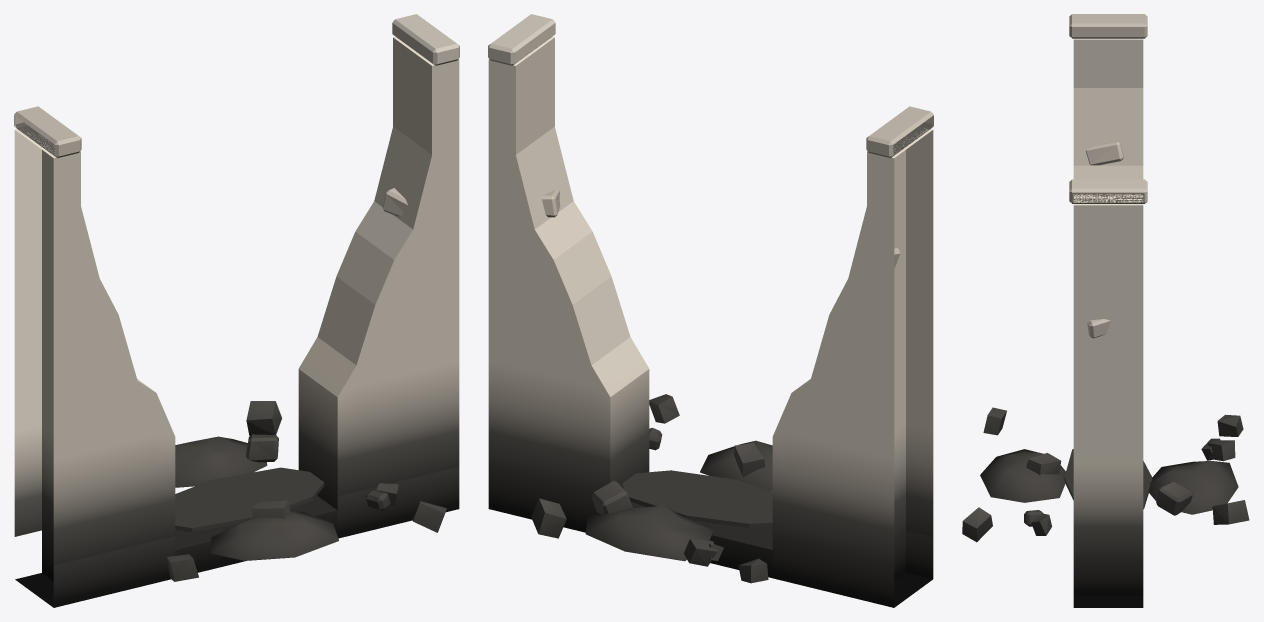
Rendered from SM_VKI_Wall_Sewer_Breach_300_Full.fbx.
The picture shows the model from 3 angles, left to right: view 1: azimuth 30°, elevation 25°; view 2: azimuth 150°, elevation 25°; view 3: azimuth 270°, elevation 25°; orthographic projection. The views are drawn at different scales.
Visible parts, largest first — view 1: SM_VKI_Wall_Sewer_Breach_300_Full.001; view 2: SM_VKI_Wall_Sewer_Breach_300_Full.001; view 3: SM_VKI_Wall_Sewer_Breach_300_Full.001.
Boxes of the visible parts, x1,y1,x2,y2 form: SM_VKI_Wall_Sewer_Breach_300_Full.001: [14, 14, 459, 607]; SM_VKI_Wall_Sewer_Breach_300_Full.001: [488, 14, 933, 607]; SM_VKI_Wall_Sewer_Breach_300_Full.001: [962, 14, 1249, 607].
Bounding box in the file's own units: 3 × 3.3 × 2.05.
